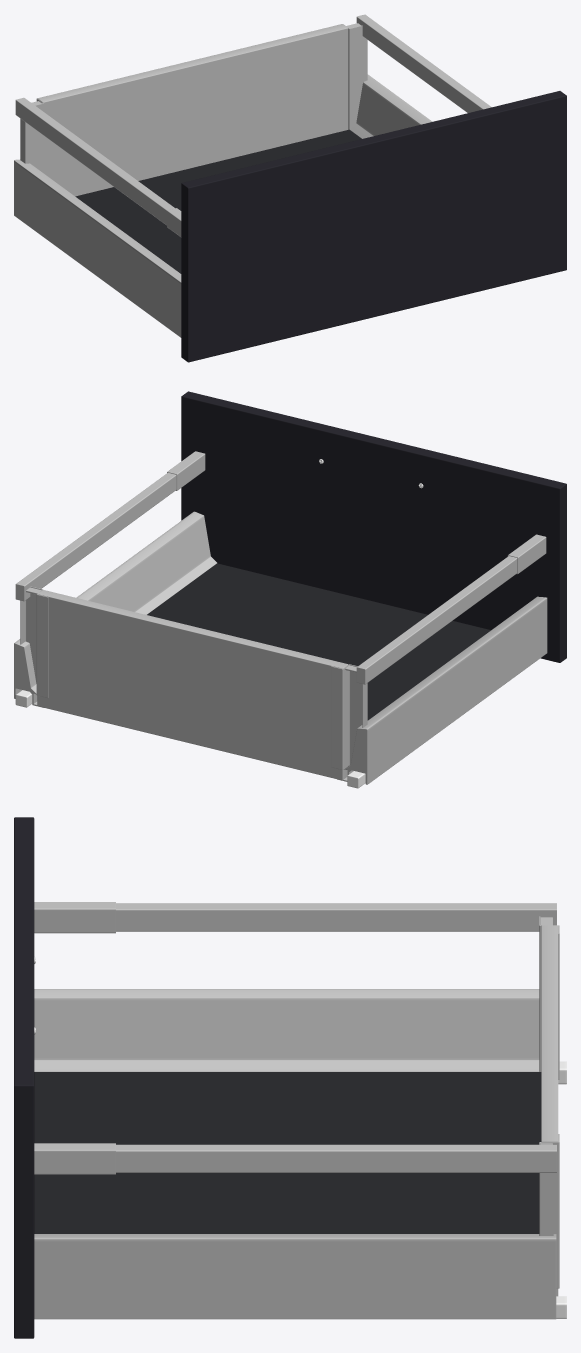
The model's file is Kitchen09Drawer02.obj.
3 views of the same model, one above another, from view 1: azimuth 30°, elevation 25°; view 2: azimuth 150°, elevation 25°; view 3: azimuth 270°, elevation 25° (orthographic). The views are drawn at different scales.
Visible parts, largest first — view 1: SM_Kitchen_09_Drawer_02_36; view 2: SM_Kitchen_09_Drawer_02_36; view 3: SM_Kitchen_09_Drawer_02_36.
Part boxes in pixels (box(x1,y1,x2,y2)): SM_Kitchen_09_Drawer_02_36: box(14, 14, 566, 362); SM_Kitchen_09_Drawer_02_36: box(14, 391, 566, 788); SM_Kitchen_09_Drawer_02_36: box(14, 817, 566, 1338).
Bounding box in the file's own units: 59.69 × 26.3 × 51.99.
